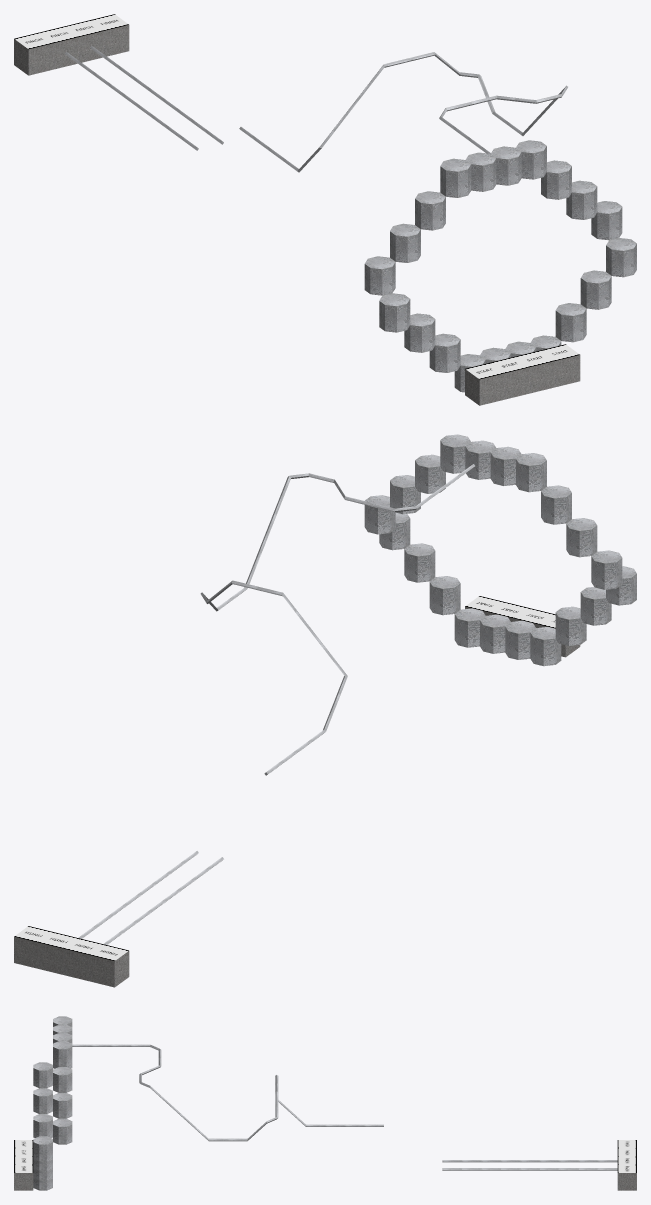
Rendered from grind_rail_challenge_1.gltf.
3 views of the same model, one above another, from view 1: azimuth 30°, elevation 25°; view 2: azimuth 150°, elevation 25°; view 3: azimuth 270°, elevation 25° (orthographic). The views are drawn at different scales.
Visible parts, largest first — view 1: map; view 2: map; view 3: map.
Boxes of the visible parts, <box> form: map: <box>14,14,636,405</box>; map: <box>14,434,636,987</box>; map: <box>14,1016,636,1190</box>.
Bounding box in the file's own units: 21.14 × 16 × 64.
5 materials, 5 textured.
